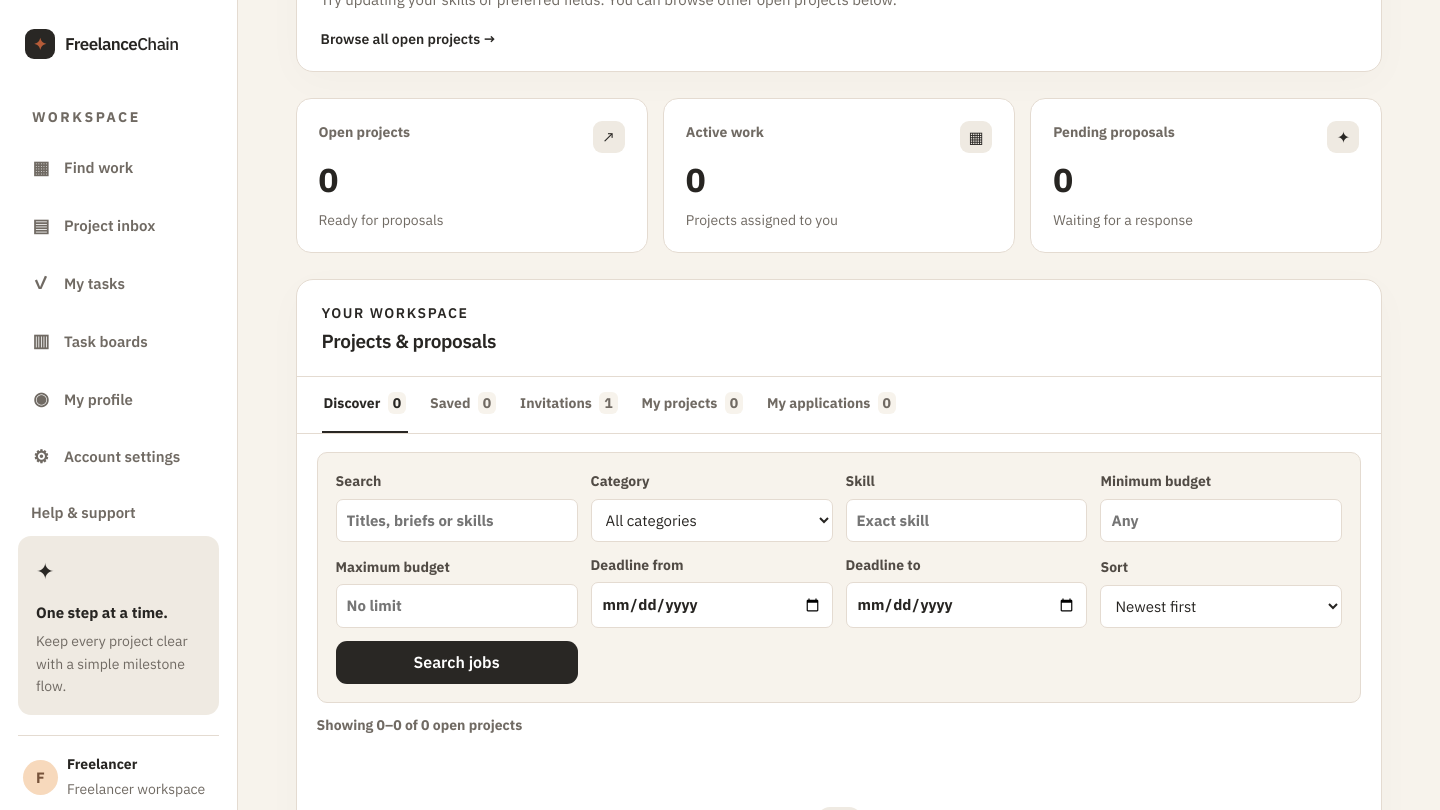
an invitation can be opened to send a proposal
(page scrolled)
What coordinates should you click on to do the following:
click the tab "Invitations 1"
I would click on:
 (569, 405)
Its box is x1=518 y1=377 x2=620 y2=433.
(page scrolled)
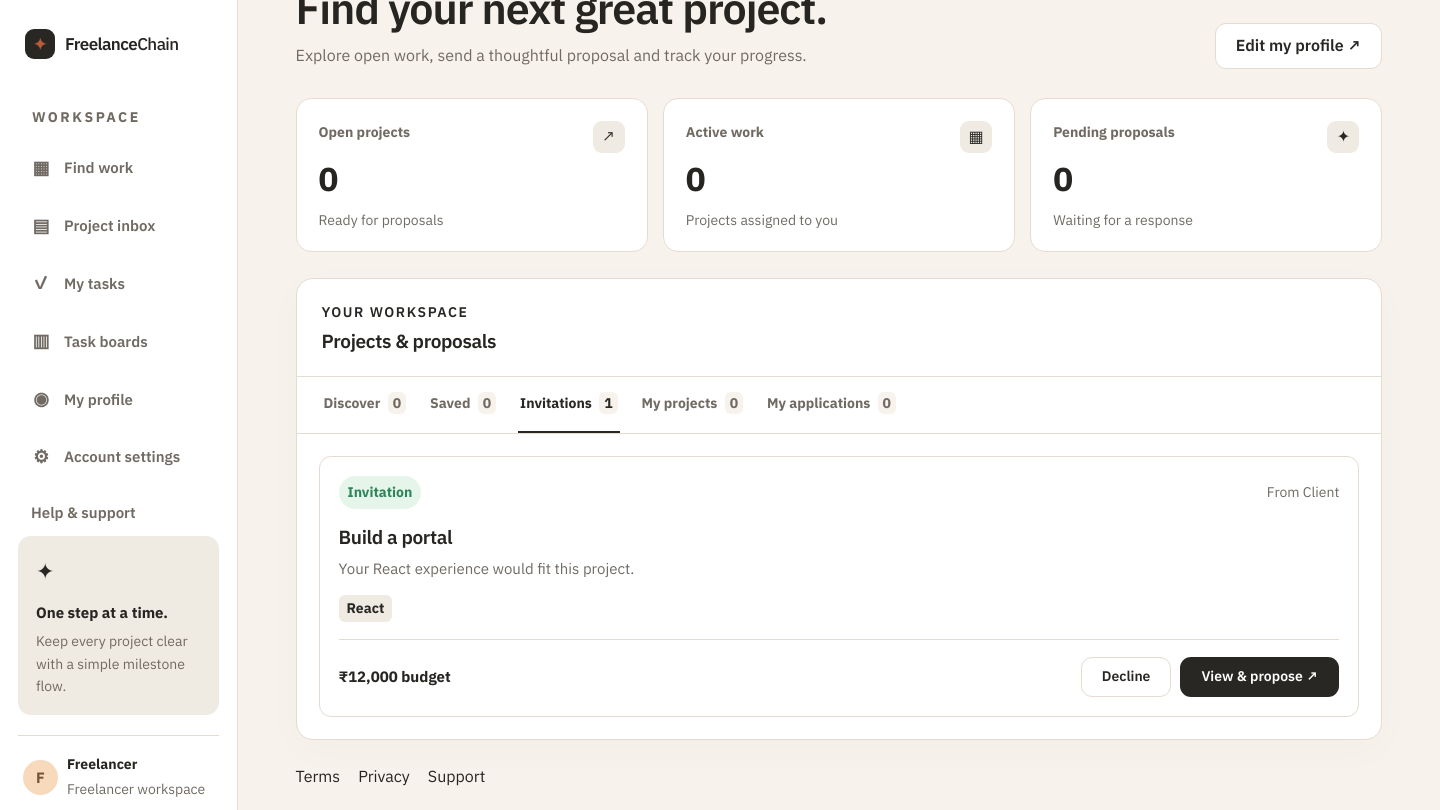
Expected: the heading "Build a portal" is shown, x1=339 y1=525 x2=452 y2=549
What coordinates should you click on to do the following:
click the button "View & propose ↗"
I would click on:
 (1260, 677)
Its box is x1=1180 y1=657 x2=1339 y2=697.
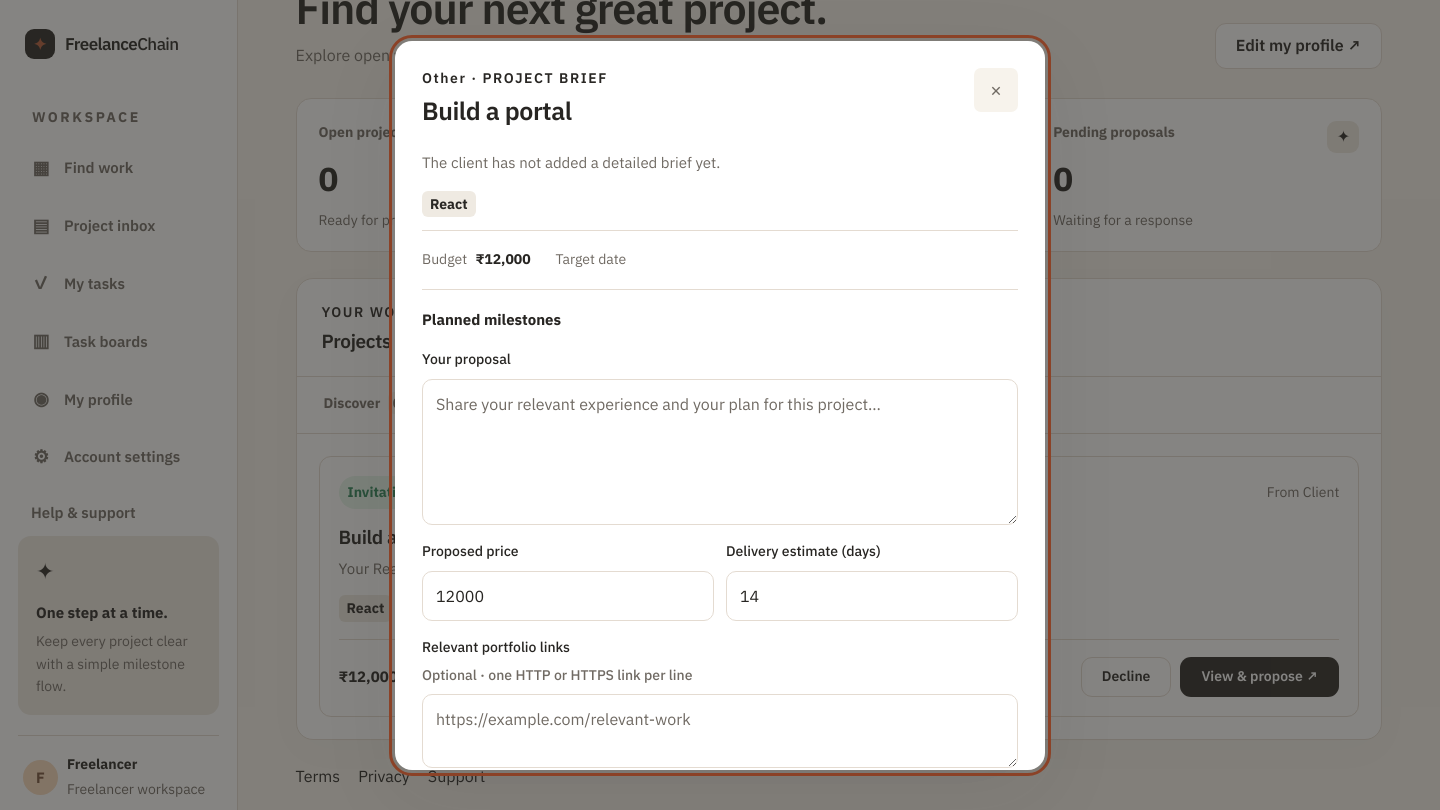
Expected: the dialog "Build a portal" is shown, x1=395 y1=40 x2=1045 y2=770
